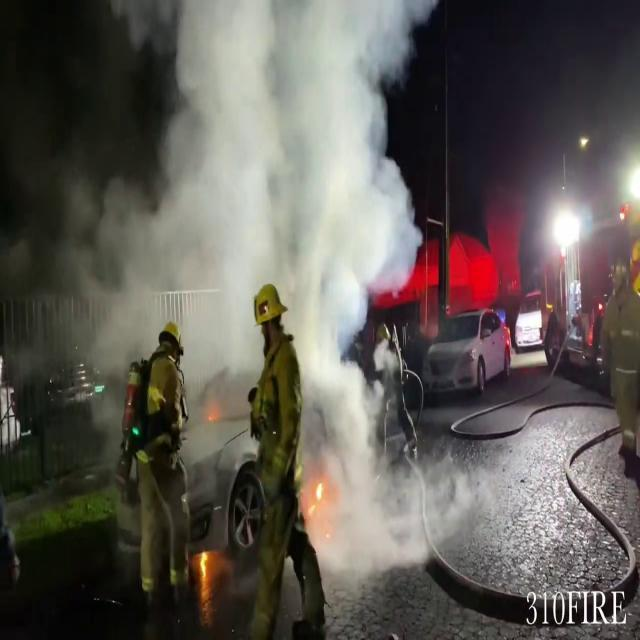Smoke: (43, 0, 425, 414)
